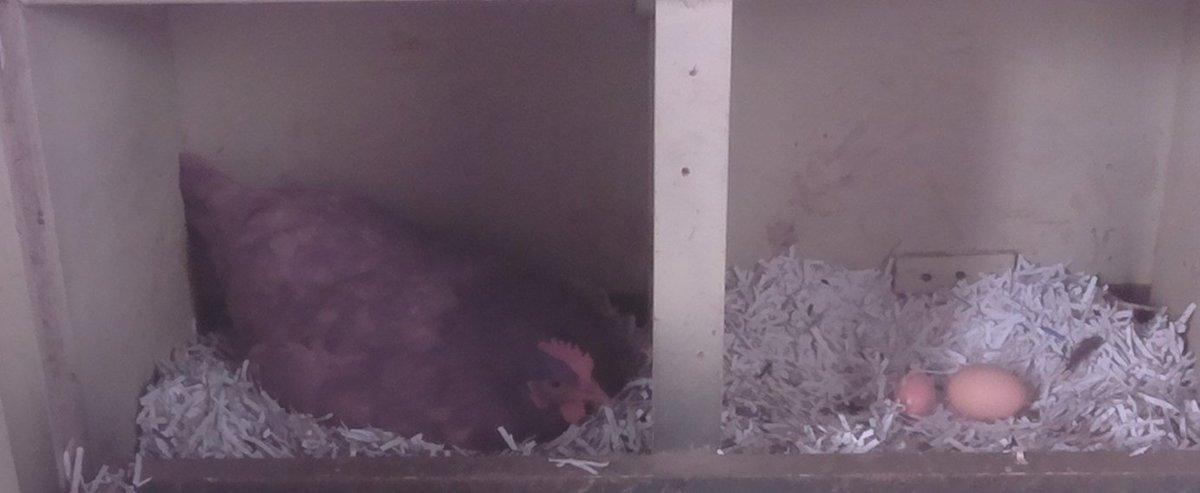egg: (942, 362, 1035, 428), (893, 366, 939, 428)
hen: (175, 159, 636, 449)
